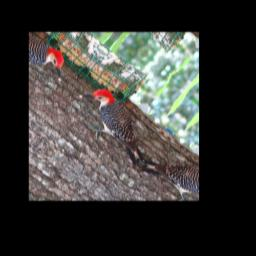Woodpecker: (63, 79, 165, 172)
